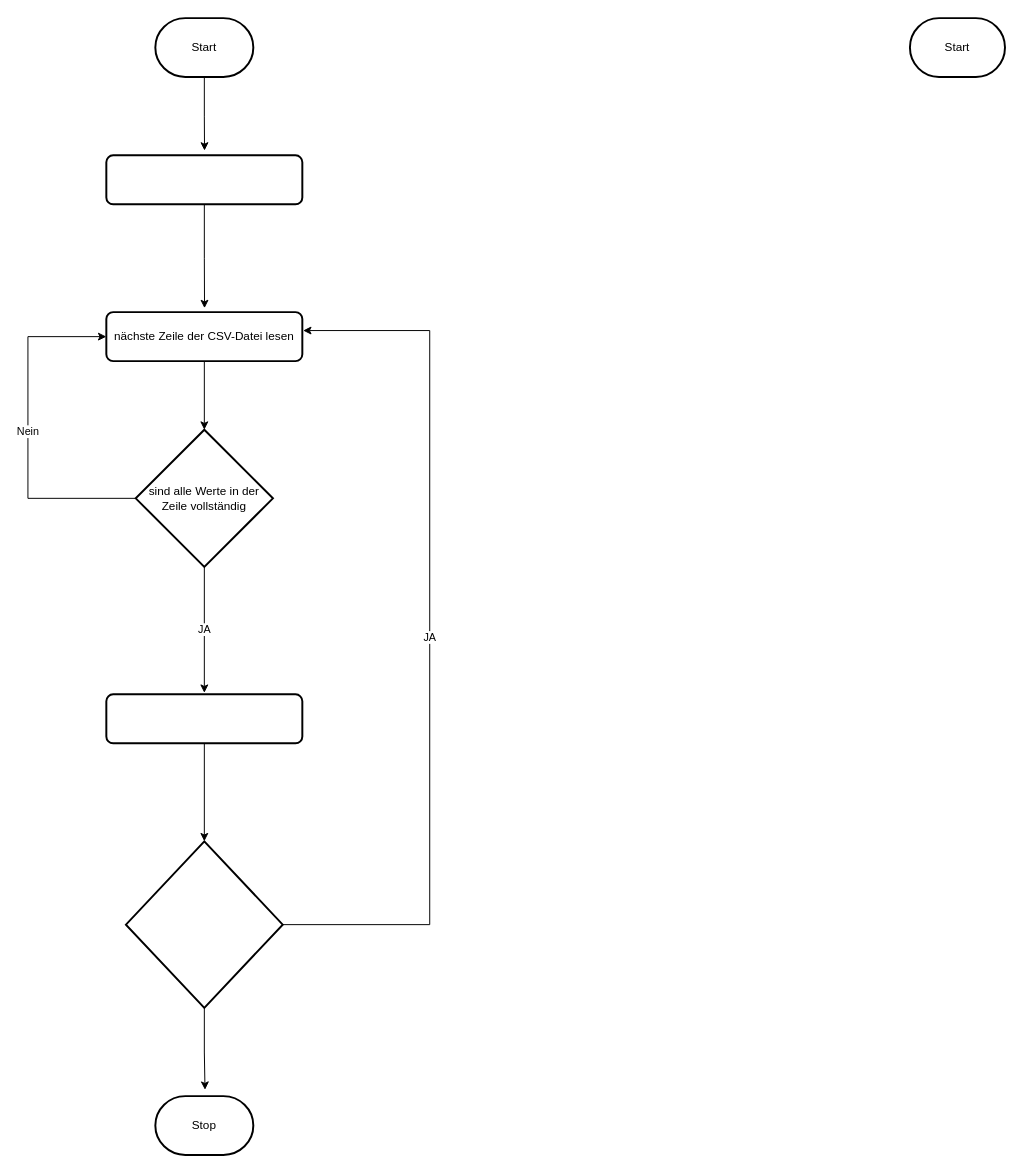
The diagram is 1023 pixels wide and 1172 high, and some of its shapes have lost their labels. Each missing label, with the centre of its shape:
erste Zeile der CSV-Datei überspringen (Header): [204,179]
gibt es weitere Zeilen in der CSV-Datei: [203,924]
neues Measurement Object erzeugen und in Measurements Liste speichern: [204,718]
